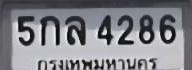2: (117, 14, 133, 44)
4: (97, 14, 112, 44)
5: (17, 15, 34, 45)
6: (159, 13, 175, 43)
8: (138, 14, 154, 43)
A01: (39, 15, 59, 45)
A36: (64, 15, 85, 44)
BKK: (35, 54, 161, 70)
